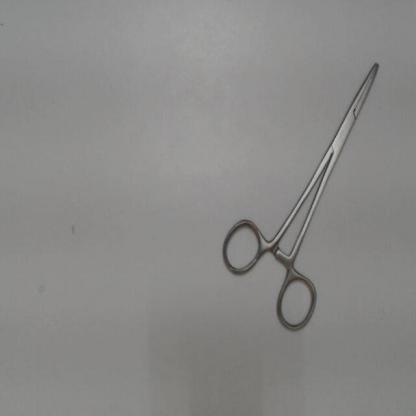Mayo Needle Holder: (214, 45, 392, 347)
